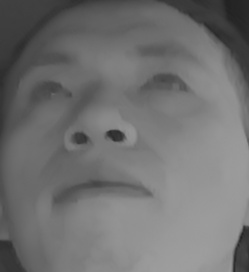eye: (134, 63, 198, 100), (27, 73, 78, 106)
mouth: (48, 162, 155, 215)
